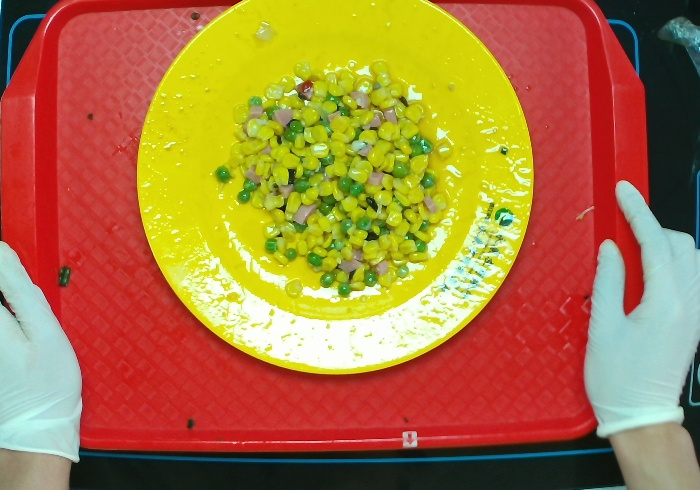YKMZ-Huang_Se_Mian_Pan: (129, 1, 540, 380)
